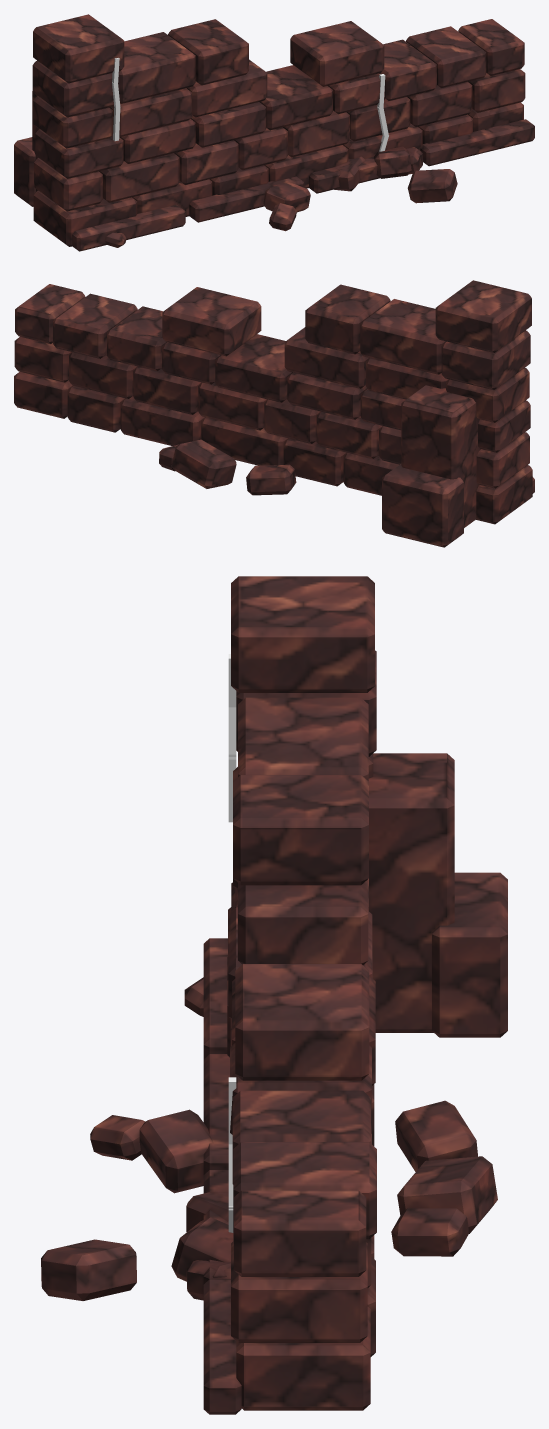
Rendered from mapkit_wall_magma.fbx.
The picture shows the model from 3 angles, top to bottom: view 1: azimuth 30°, elevation 25°; view 2: azimuth 150°, elevation 25°; view 3: azimuth 270°, elevation 25°; orthographic projection. The views are drawn at different scales.
Visible parts, largest first — view 1: Body, c_255_115_31; view 2: Body; view 3: Body, c_255_115_31.
Part boxes in pixels (bbox=[...]): Body: bbox=[14, 14, 534, 251]; c_255_115_31: bbox=[112, 58, 388, 151]; Body: bbox=[14, 280, 534, 547]; Body: bbox=[41, 576, 507, 1414]; c_255_115_31: bbox=[228, 654, 236, 1232].
Bounding box in the file's own units: 1403 × 590 × 614.
1 material, 1 textured.
